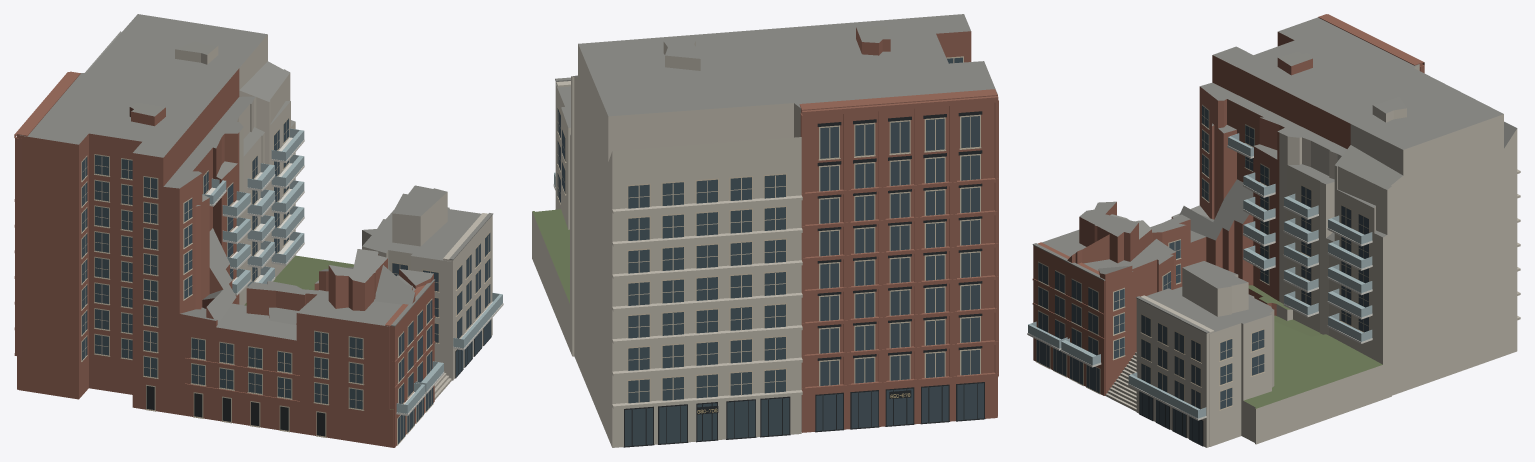
The model's file is blok0-ij4you.glb.
3 views of the same model, side by side, from view 1: azimuth 30°, elevation 25°; view 2: azimuth 150°, elevation 25°; view 3: azimuth 270°, elevation 25° (orthographic). The views are drawn at different scales.
Visible parts, largest first — view 1: blok0-ij4you; view 2: blok0-ij4you; view 3: blok0-ij4you.
Boxes of the visible parts, x1,y1,x2,y2 form: blok0-ij4you: (14, 14, 503, 447); blok0-ij4you: (532, 14, 998, 447); blok0-ij4you: (1027, 14, 1520, 447).
Size of the model in its own units: 49.7 by 29.89 by 53.15.
